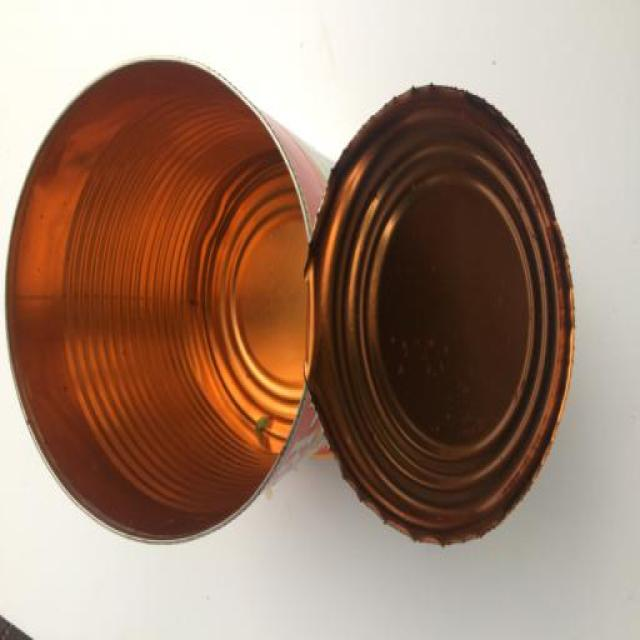Metal: (5, 60, 575, 545)
